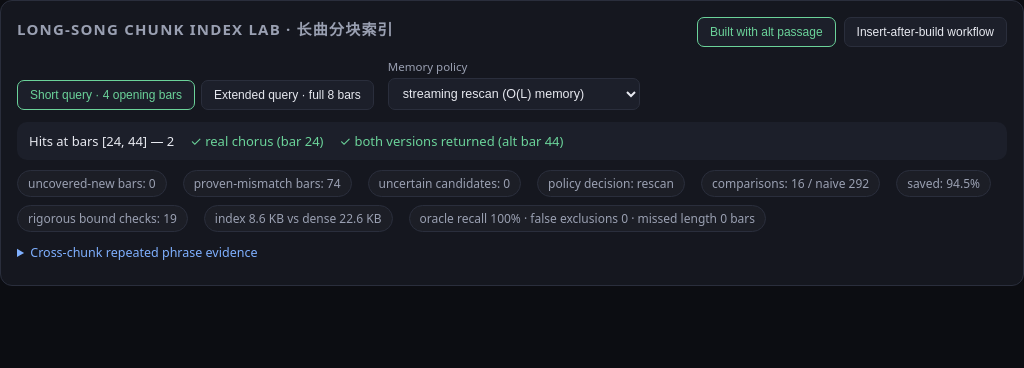
Test: index lab › separates tight-budget rescan from generous-budget retention
This screenshot has width=1024, height=368.
Select "memory cap: retain candidates if it fits" in the dropdown with test id "lab-policy": (514, 94) [388,78,640,110]
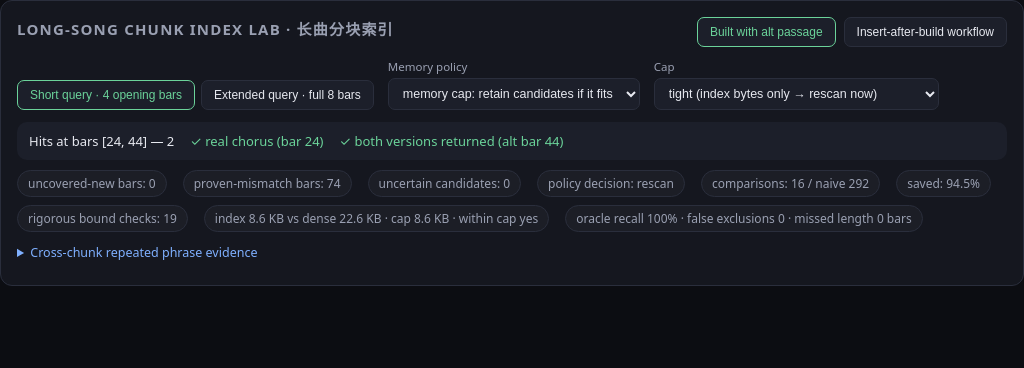
Expected: the text with test id "lab-decision" shows "rescan", [637,175,674,192]
Select "generous (+1 MB, ≤64 candidates → retain)" in the dropdown with test id "lab-cap": (796, 94) [654,78,939,110]
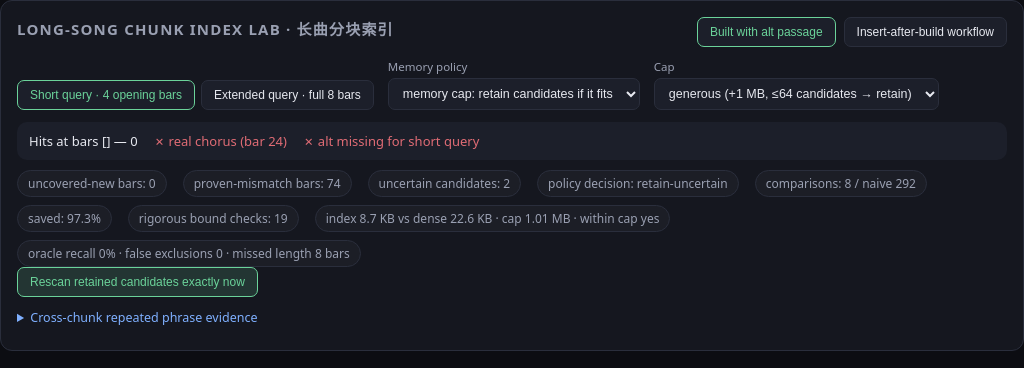
Expected: the text with test id "lab-decision" shows "retain-uncertain", [637,175,728,192]
Expected: the button with test id "lab-rescan-retained" is shown
Click the button with test id "lab-rescan-retained": (137, 282) [17,267,258,297]
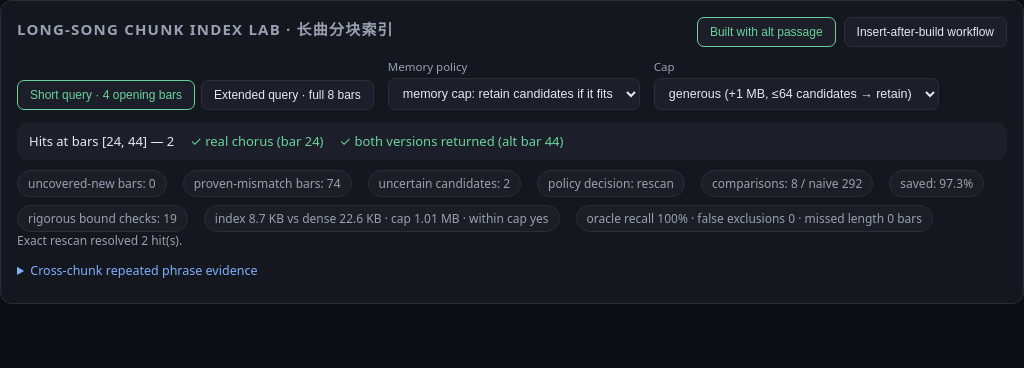
Expected: the text with test id "lab-exact-note" shows "Exact rescan resolved", [17,232,141,249]
